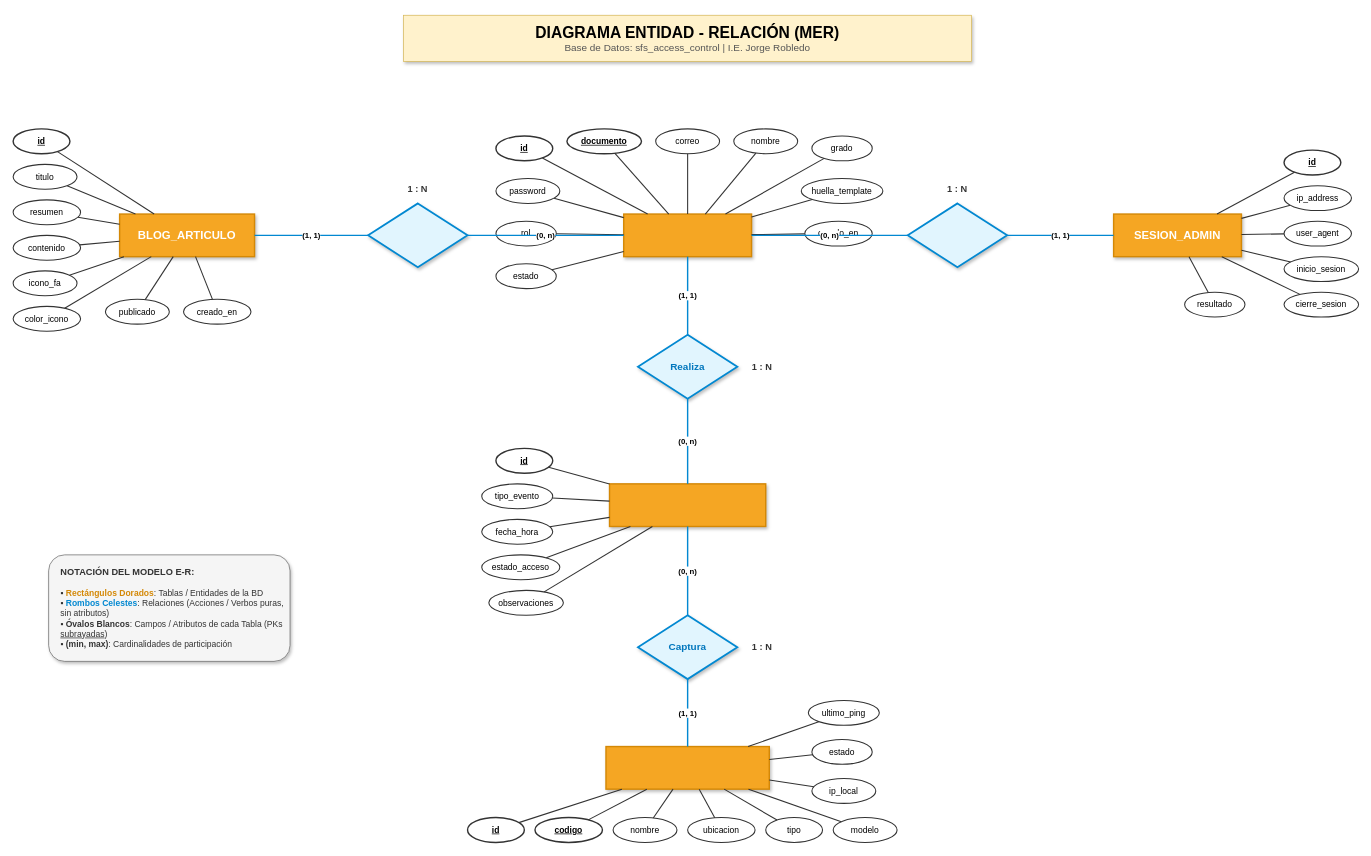
The diagram is 1371 pixels wide and 856 high, and some of its shapes have lost their labels. Each missing label, with the centre of its shape:
DISPOSITIVO_SENSOR: [688,768]
Inicia: [958,236]
Publica: [418,236]
REGISTRO_ACCESO: [688,506]
USUARIO: [688,236]
